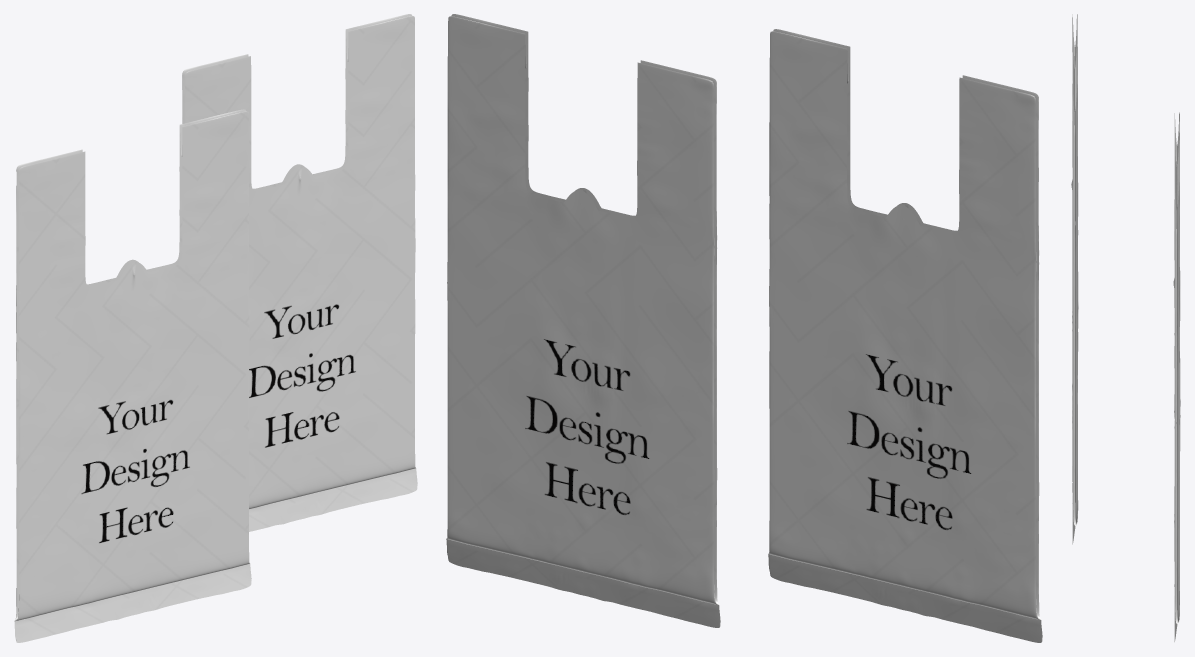
File: Bio de A-2.glb
3 views of the same model, side by side, from view 1: azimuth 30°, elevation 25°; view 2: azimuth 150°, elevation 25°; view 3: azimuth 270°, elevation 25° (orthographic). The views are drawn at different scales.
Parts seen in each view (by area): view 1: Plane.002, Plane.003; view 2: Plane.002, Plane.003; view 3: Plane.003, Plane.002.
Boxes of the visible parts, left/top/right/bottom form: Plane.002: left=14, top=109, right=251, bottom=642; Plane.003: left=182, top=14, right=417, bottom=531; Plane.002: left=768, top=29, right=1042, bottom=642; Plane.003: left=446, top=14, right=720, bottom=627; Plane.003: left=1173, top=112, right=1180, bottom=641; Plane.002: left=1071, top=14, right=1078, bottom=544.
Size of the model in its own units: 3.54 by 3.52 by 0.805.
1 material, 1 textured.
